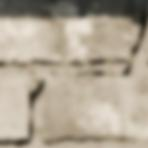brick: (0, 0, 134, 63), (41, 74, 147, 140), (0, 76, 28, 139), (146, 4, 147, 19)
crack: (0, 0, 147, 146)
